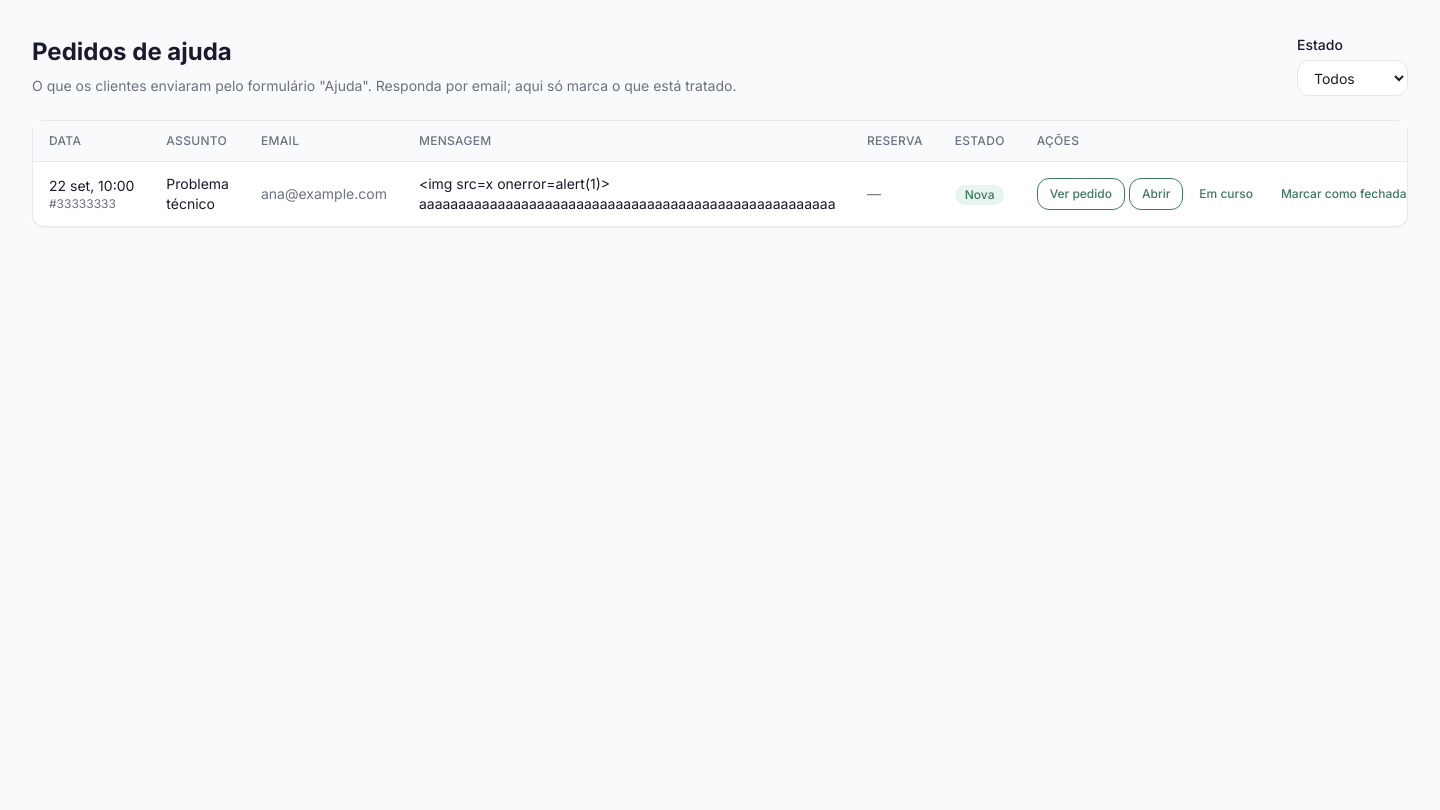
/admin/support (C19) › shows the whole message and the context on request, escaped as text
This screenshot has width=1440, height=810.
Click the button "Ver pedido" at coordinates (1081, 194), box [1037, 178, 1125, 210]
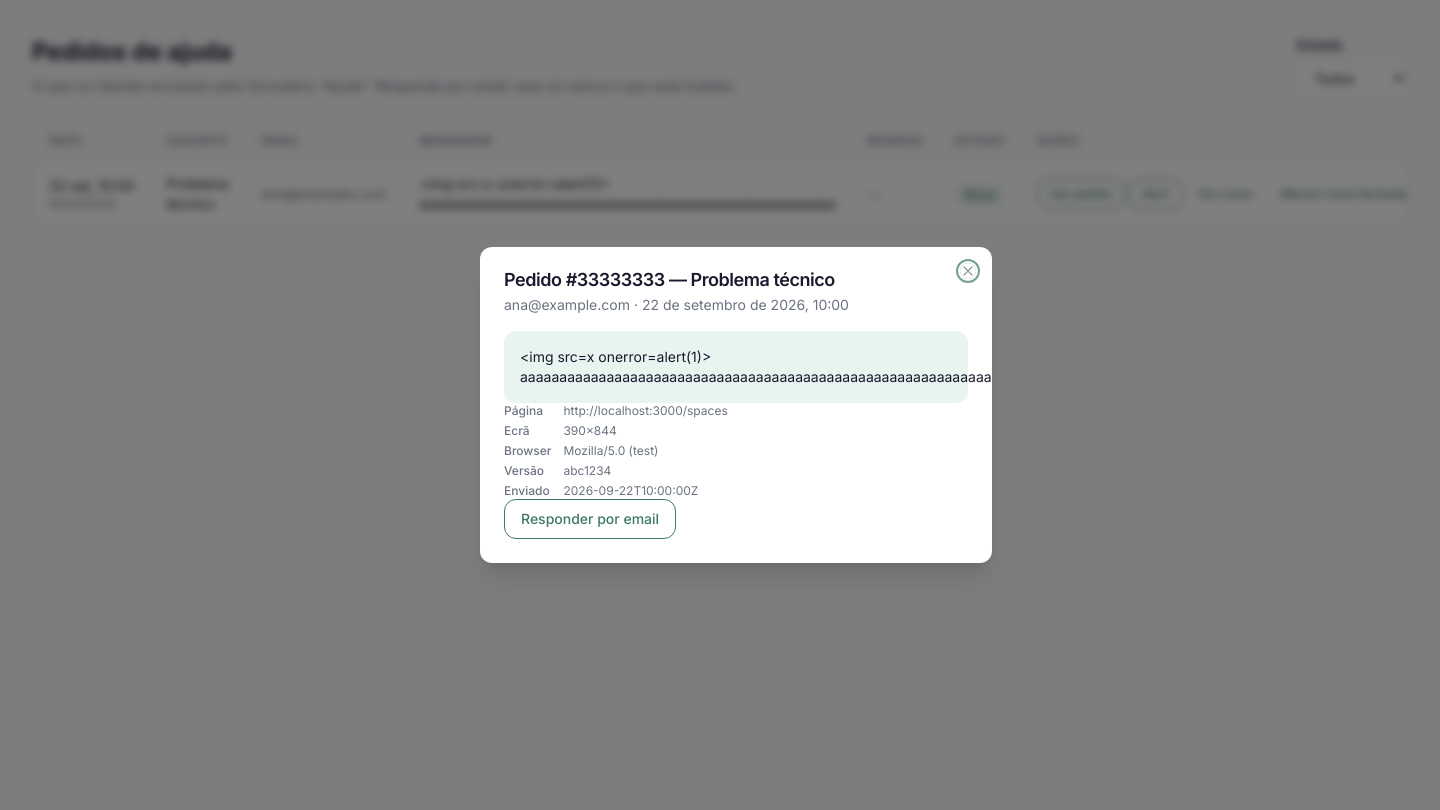
Expected: the text "390x844" is shown, [564, 423, 617, 438]
Expected: the text "abc1234" is shown, [564, 463, 611, 478]
